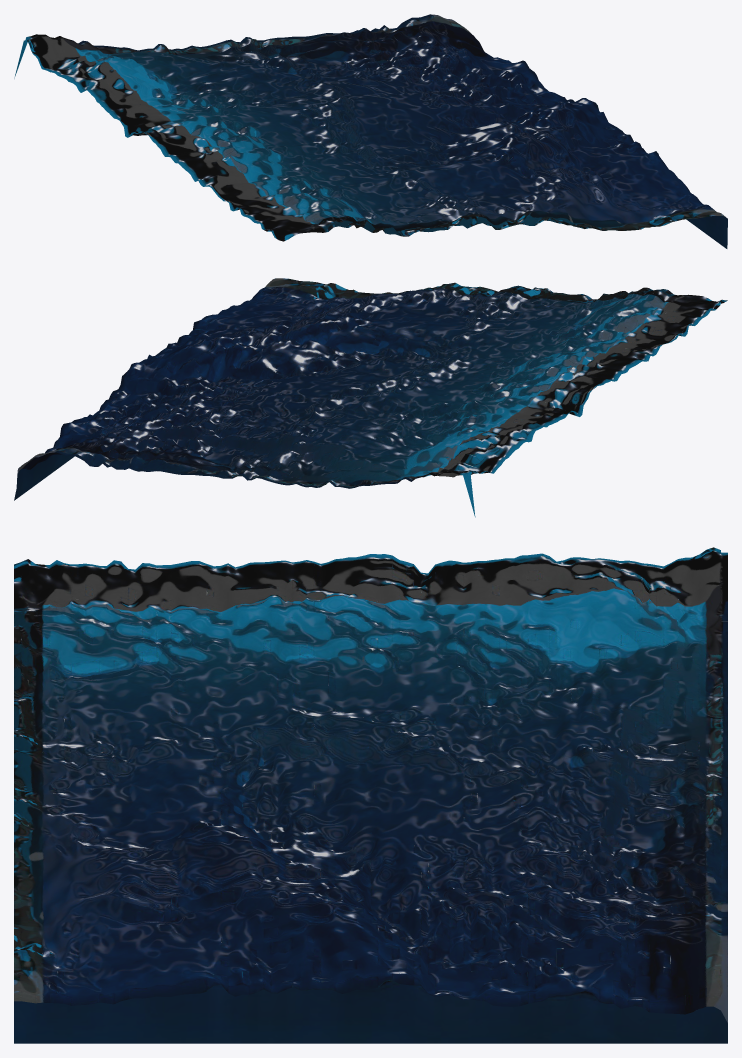
Rendered from water4.glb.
3 renders of one model, top to bottom at view 1: azimuth 30°, elevation 25°; view 2: azimuth 150°, elevation 25°; view 3: azimuth 270°, elevation 25°, orthographic. The views are drawn at different scales.
Parts seen in each view (by area): view 1: Plane.002; view 2: Plane.002; view 3: Plane.002.
Boxes of the visible parts, x1=… form: Plane.002: x1=14, y1=14, x2=727, y2=248; Plane.002: x1=14, y1=278, x2=727, y2=517; Plane.002: x1=14, y1=547, x2=727, y2=1043.
Bounding box in the file's own units: 2.24 × 0.6309 × 2.15.
1 material, 1 textured.
